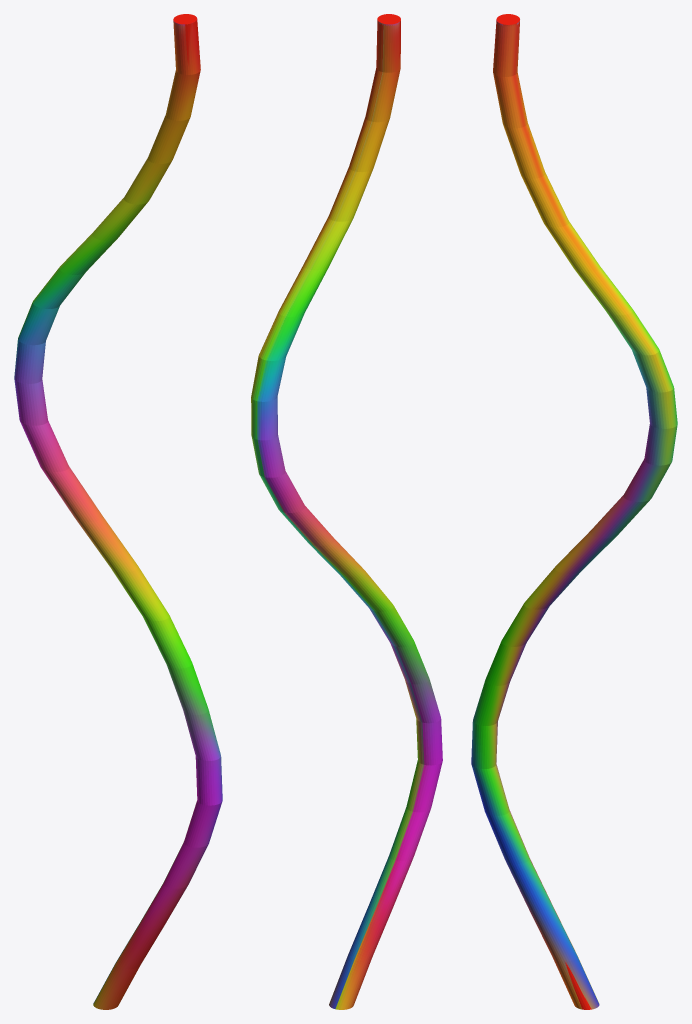
File: hair.fbx
3 views of the same model, side by side, from view 1: azimuth 90°, elevation 25°; view 2: azimuth 150°, elevation 25°; view 3: azimuth 270°, elevation 25° (orthographic). The views are drawn at different scales.
Parts seen in each view (by area): view 1: Cylinder; view 2: Cylinder; view 3: Cylinder.
Part boxes in pixels (x1=…): Cylinder: x1=14, y1=14, x2=222, y2=1009; Cylinder: x1=251, y1=14, x2=442, y2=1009; Cylinder: x1=471, y1=14, x2=677, y2=1009.
Bounding box in the file's own units: 42.6 × 385 × 73.45.
